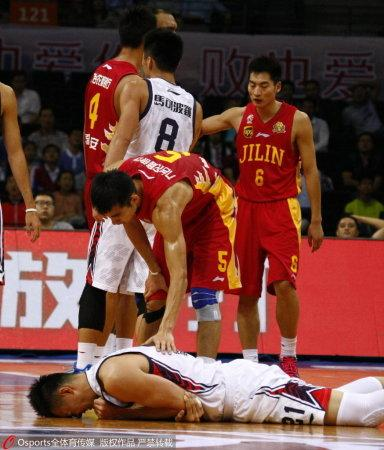bending: (91, 149, 239, 364)
down: (16, 337, 384, 436)
up: (203, 59, 323, 378), (78, 7, 152, 193), (102, 39, 207, 164)
